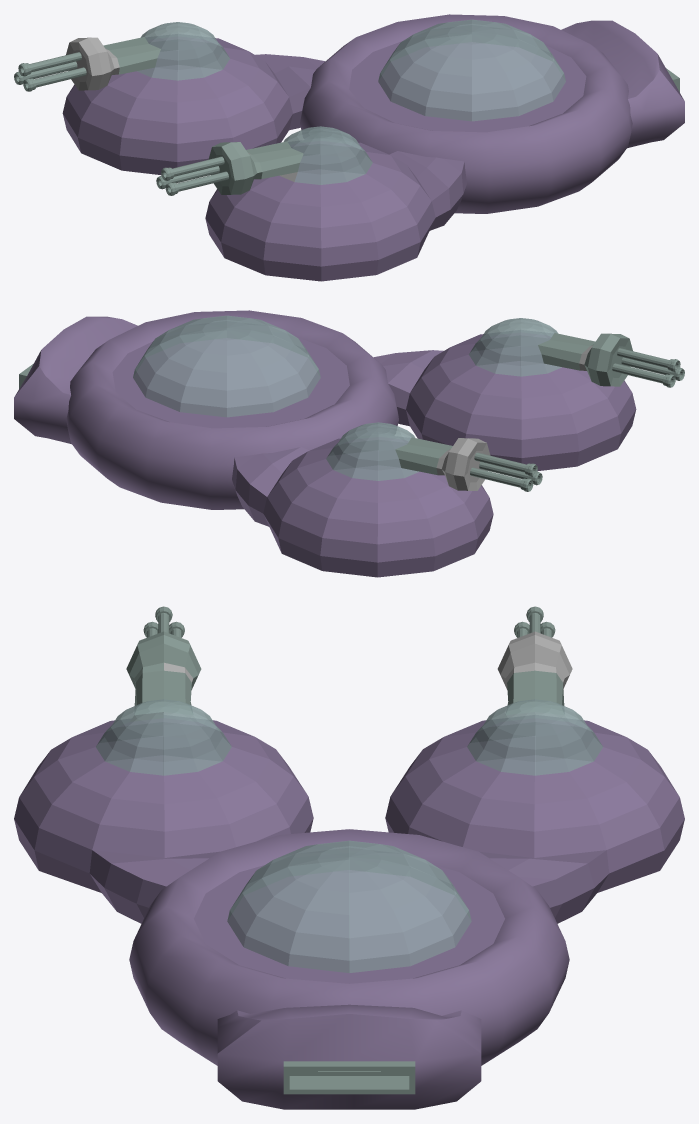
The model's file is eb_ship_c01.fbx.
3 views of the same model, one above another, from view 1: azimuth 30°, elevation 25°; view 2: azimuth 150°, elevation 25°; view 3: azimuth 270°, elevation 25° (orthographic). The views are drawn at different scales.
Visible parts, largest first — view 1: pasted__pSphere1 (×2), pSphere5, pSphere4, pasted__pSphere2 (×2), pCube1, pasted__pSphere3 (×2), pasted__pCylinder1 (×2), pasted__pasted__pCylinder1 (×2), pasted__pasted__pasted__pCylinder1 (×2); view 2: pasted__pSphere1 (×2), pSphere5, pSphere4, pasted__pSphere2 (×2), pCube1, pasted__pSphere3 (×2), pasted__pCylinder1 (×2), pasted__pasted__pCylinder1 (×2), pasted__pasted__pasted__pCylinder1 (×2); view 3: pasted__pSphere1 (×2), pSphere5, pCube1, pSphere4, pasted__pSphere2 (×2), pasted__pSphere3 (×2).
Part boxes in pixels (bbox=[...]): pasted__pSphere1 (×2): bbox=[62, 36, 466, 281]; pSphere5: bbox=[300, 14, 632, 213]; pSphere4: bbox=[378, 19, 565, 121]; pasted__pSphere2 (×2): bbox=[103, 22, 372, 184]; pCube1: bbox=[561, 20, 684, 148]; pasted__pSphere3 (×2): bbox=[66, 37, 262, 194]; pasted__pCylinder1 (×2): bbox=[18, 52, 224, 180]; pasted__pasted__pCylinder1 (×2): bbox=[14, 61, 228, 195]; pasted__pasted__pasted__pCylinder1 (×2): bbox=[23, 67, 219, 189]; pasted__pSphere1 (×2): bbox=[232, 332, 636, 577]; pSphere5: bbox=[66, 310, 398, 509]; pSphere4: bbox=[133, 315, 320, 417]; pasted__pSphere2 (×2): bbox=[326, 318, 595, 480]; pCube1: bbox=[14, 316, 137, 444]; pasted__pSphere3 (×2): bbox=[436, 333, 632, 490]; pasted__pCylinder1 (×2): bbox=[474, 348, 680, 476]; pasted__pasted__pCylinder1 (×2): bbox=[470, 357, 684, 491]; pasted__pasted__pasted__pCylinder1 (×2): bbox=[479, 363, 675, 485]; pasted__pSphere1 (×2): bbox=[14, 718, 684, 923]; pSphere5: bbox=[129, 829, 569, 1065]; pCube1: bbox=[217, 1004, 481, 1109]; pSphere4: bbox=[227, 840, 471, 972]; pasted__pSphere2 (×2): bbox=[96, 670, 602, 775]; pasted__pSphere3 (×2): bbox=[126, 631, 572, 690].
Bounding box in the file's own units: 18.45 × 4.4 × 14.67.
